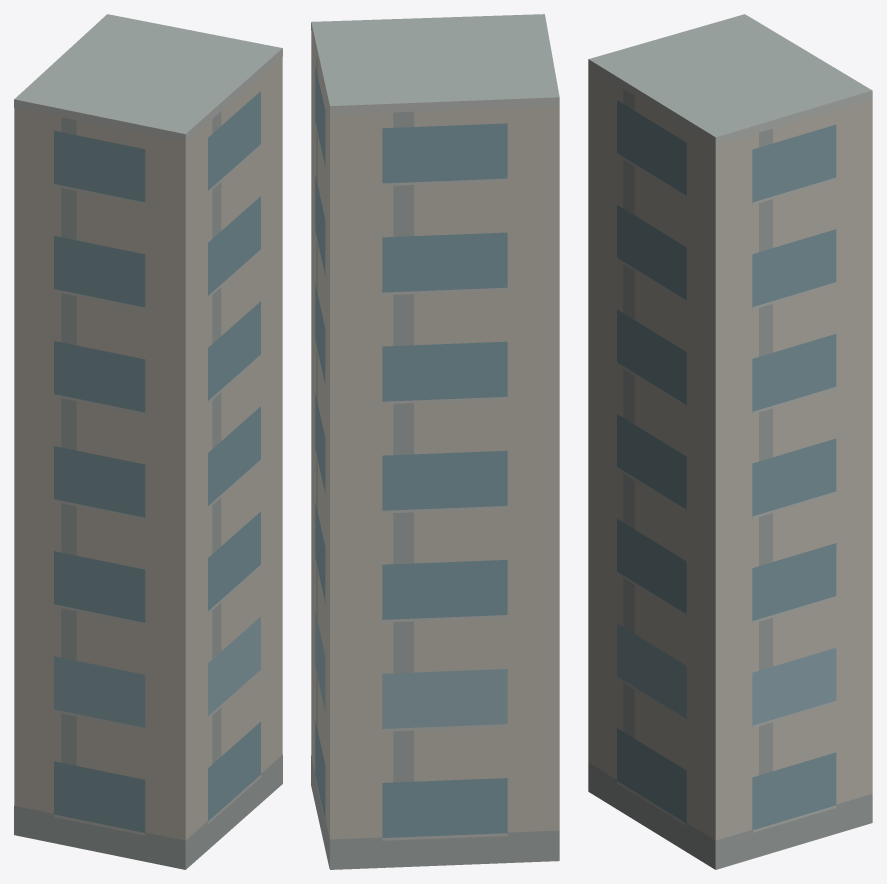
The model's file is survey-upis-32503118.glb.
3 renders of one model, left to right at view 1: azimuth 30°, elevation 25°; view 2: azimuth 150°, elevation 25°; view 3: azimuth 270°, elevation 25°, orthographic. The views are drawn at different scales.
Visible parts, largest first — view 1: survey-upis-32503118.tmp; view 2: survey-upis-32503118.tmp; view 3: survey-upis-32503118.tmp.
Part boxes in pixels (x1,y1,x2,y2): survey-upis-32503118.tmp: (14, 14, 282, 869); survey-upis-32503118.tmp: (311, 14, 559, 869); survey-upis-32503118.tmp: (588, 14, 872, 869).
Bounding box in the file's own units: 7.72 × 21.35 × 7.51.
